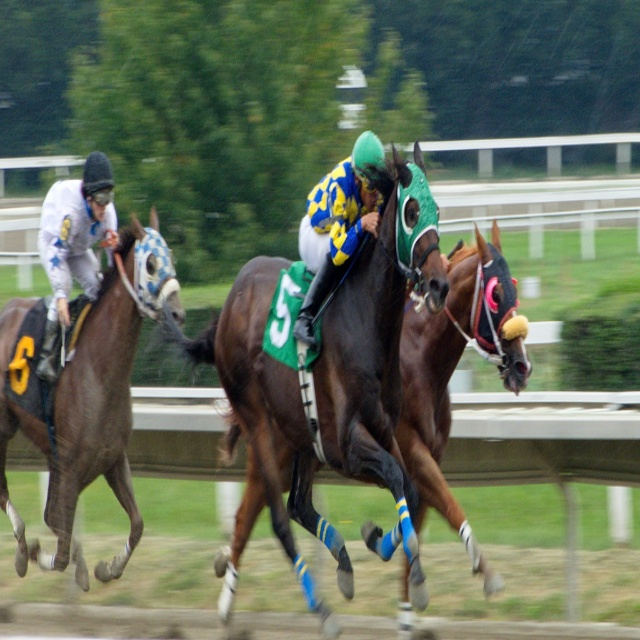Horse: (0, 140, 532, 640)
